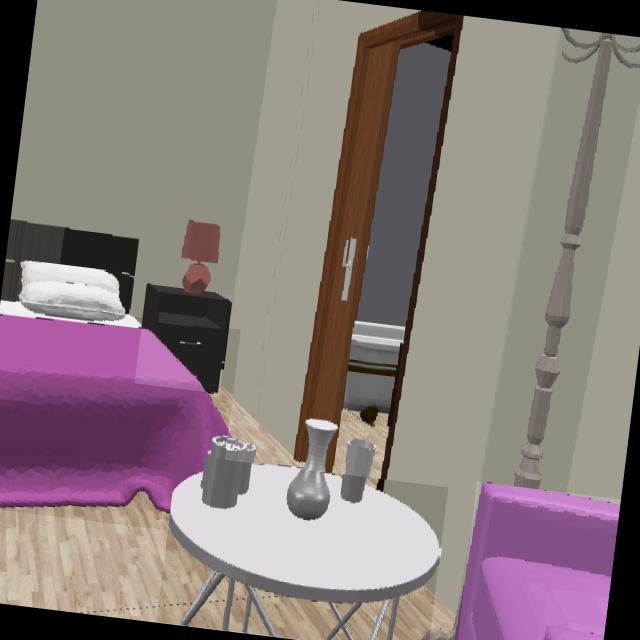bathtube: (343, 321, 403, 424)
bed: (0, 301, 228, 512)
nighttable: (143, 284, 229, 393)
pillow: (18, 262, 124, 322)
sofa: (457, 483, 619, 640)
table: (169, 465, 439, 640)
